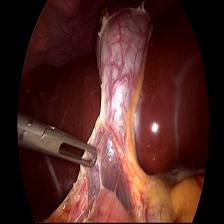Grasper: (16, 108, 98, 168)
